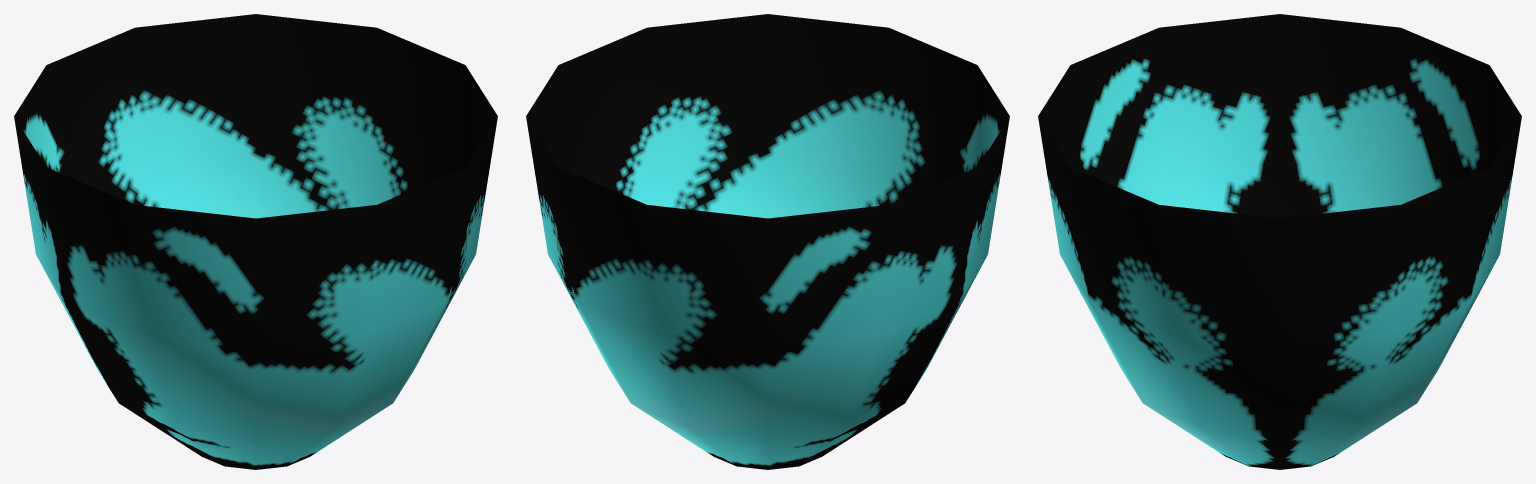
The model's file is ring_outer.fbx.
3 renders of one model, left to right at view 1: azimuth 30°, elevation 25°; view 2: azimuth 150°, elevation 25°; view 3: azimuth 270°, elevation 25°, orthographic.
Parts seen in each view (by area): view 1: ring_outer; view 2: ring_outer; view 3: ring_outer.
Part boxes in pixels (x1=…): ring_outer: x1=14, y1=14, x2=497, y2=469; ring_outer: x1=526, y1=14, x2=1009, y2=469; ring_outer: x1=1038, y1=14, x2=1521, y2=469.
Bounding box in the file's own units: 108 × 80.31 × 108.
1 material, 1 textured.
